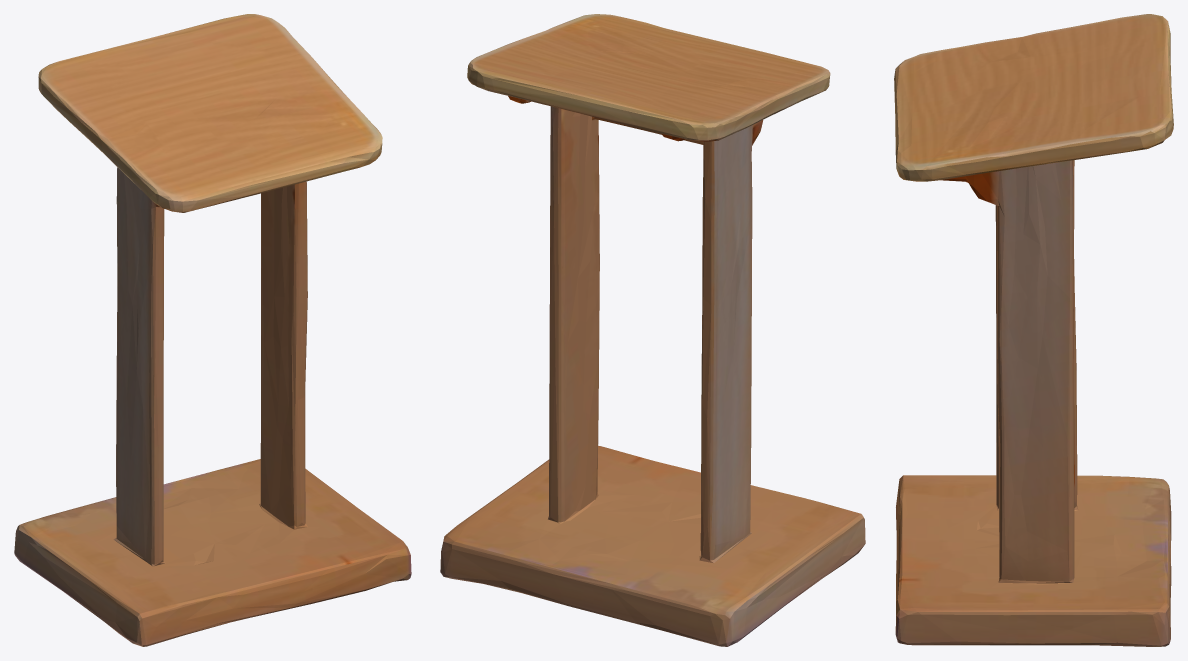
File: lectern.glb
3 renders of one model, left to right at view 1: azimuth 30°, elevation 25°; view 2: azimuth 150°, elevation 25°; view 3: azimuth 270°, elevation 25°, orthographic. The views are drawn at different scales.
Parts seen in each view (by area): view 1: textured_mesh.obj; view 2: textured_mesh.obj; view 3: textured_mesh.obj.
Part boxes in pixels (x1=…): textured_mesh.obj: x1=14, y1=14, x2=411, y2=646; textured_mesh.obj: x1=440, y1=14, x2=865, y2=646; textured_mesh.obj: x1=894, y1=14, x2=1173, y2=646.
Size of the model in its own units: 0.7136 by 1.2 by 0.5961.
Materials: 1 (1 with a texture image).
